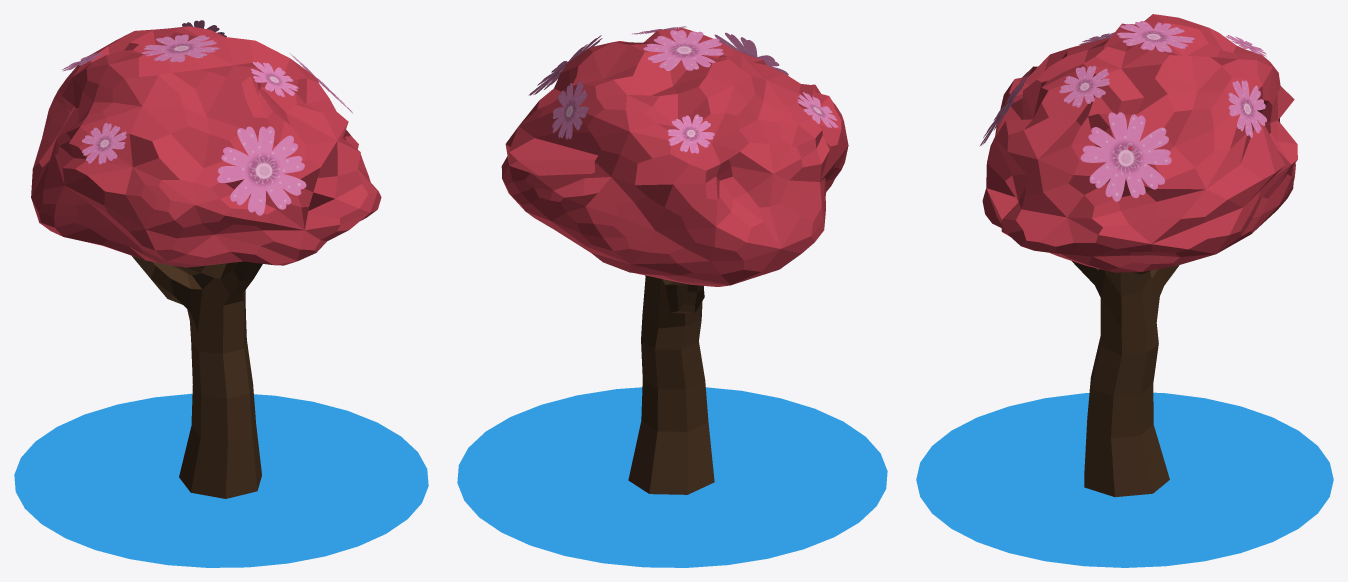
Rendered from Tree2.fbx.
The picture shows the model from 3 angles, left to right: view 1: azimuth 30°, elevation 25°; view 2: azimuth 150°, elevation 25°; view 3: azimuth 270°, elevation 25°; orthographic projection. The views are drawn at different scales.
Visible parts, largest first — view 1: Icosphere.007, Circle, Cylinder.001, Plane.006, Plane.002, Plane.001, Plane; view 2: Icosphere.007, Circle, Cylinder.001, Plane.002, Plane.005, Plane.003, Plane.006, Plane.001; view 3: Icosphere.007, Circle, Cylinder.001, Plane.004, Plane.002, Plane.005, Plane.
Boxes of the visible parts, left/top/right/bottom form: Icosphere.007: left=31, top=26, right=381, bottom=267; Circle: left=14, top=393, right=428, bottom=567; Cylinder.001: left=132, top=256, right=262, bottom=498; Plane.006: left=217, top=126, right=306, bottom=215; Plane.002: left=141, top=34, right=219, bottom=62; Plane.001: left=82, top=122, right=126, bottom=164; Plane: left=250, top=61, right=298, bottom=97; Icosphere.007: left=501, top=28, right=848, bottom=286; Circle: left=457, top=387, right=887, bottom=567; Cylinder.001: left=628, top=275, right=714, bottom=494; Plane.002: left=643, top=30, right=723, bottom=70; Plane.005: left=552, top=80, right=588, bottom=139; Plane.003: left=667, top=114, right=714, bottom=153; Plane.006: left=714, top=32, right=788, bottom=75; Plane.001: left=797, top=92, right=838, bottom=127; Icosphere.007: left=982, top=14, right=1297, bottom=272; Circle: left=916, top=392, right=1333, bottom=567; Cylinder.001: left=1072, top=261, right=1179, bottom=497; Plane.004: left=1080, top=112, right=1171, bottom=201; Plane.002: left=1117, top=21, right=1194, bottom=52; Plane.005: left=1228, top=80, right=1266, bottom=137; Plane: left=1059, top=65, right=1109, bottom=107.
Size of the model in its own units: 591 by 681 by 591.
